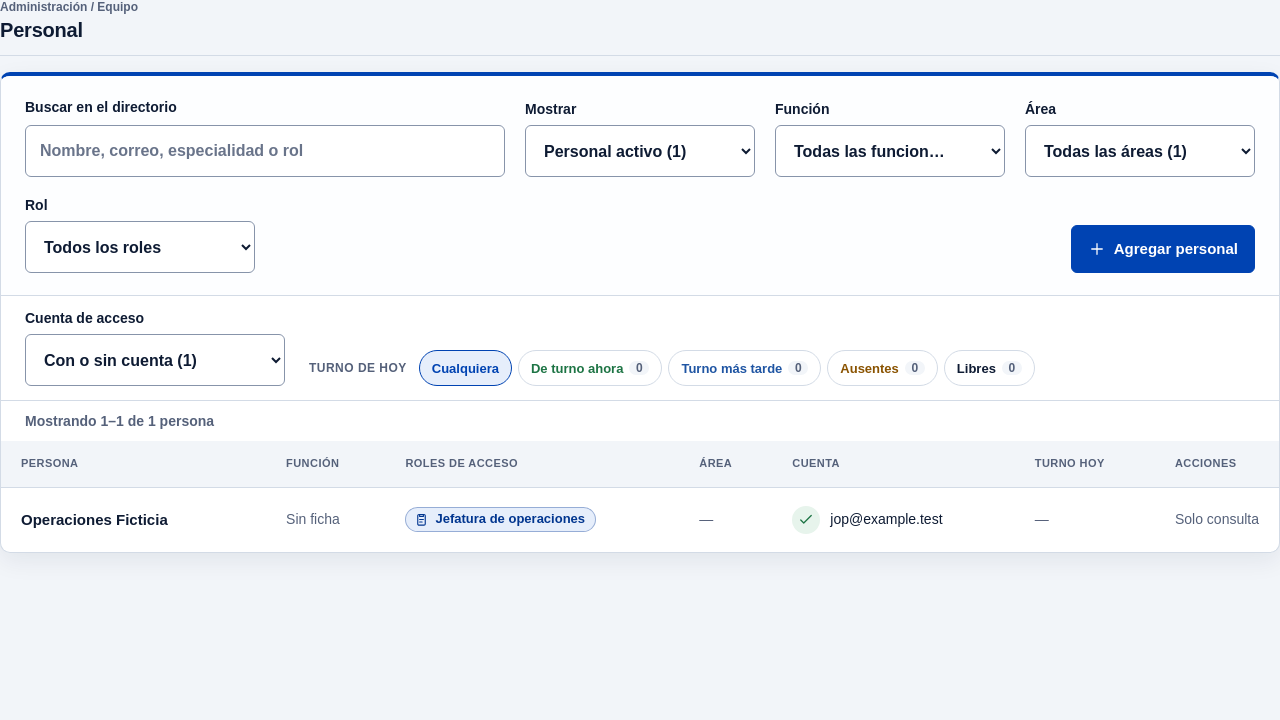
Test: Personal · cuentas de acceso (W05, W06) › con registrar e invitar hay una sola acción de alta, en la barra de filtros, con el acceso a la app opcional
Click the button "Agregar personal": {"x": 1163, "y": 249} [1071,225,1255,273]
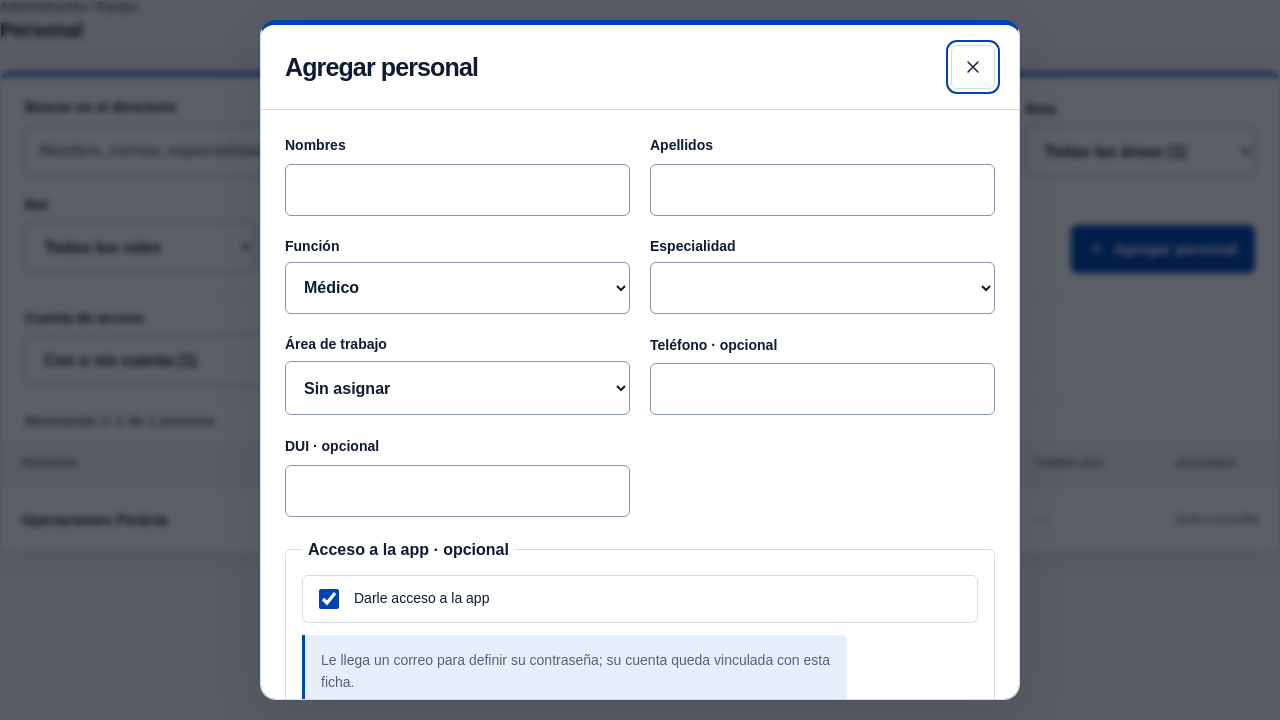
Expected: the text "Acceso a la app · opcional" is shown, [302,541,515,559]
Expected: the checkbox labelled "Darle acceso a la app" is shown, [319,589,339,609]
